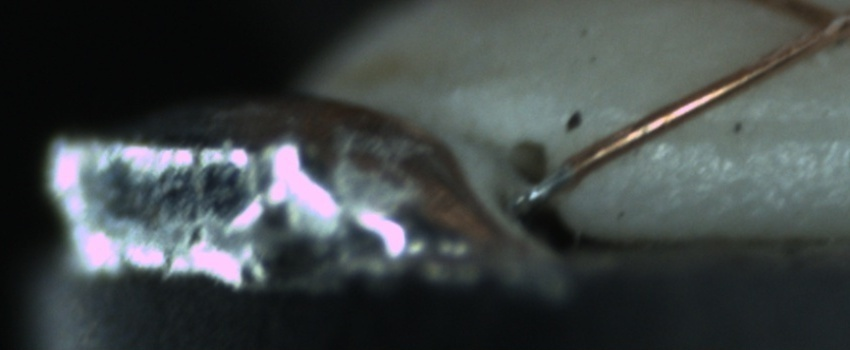CL: (778, 1, 849, 58)
DL: (689, 91, 850, 160)
TS: (512, 163, 576, 216)
